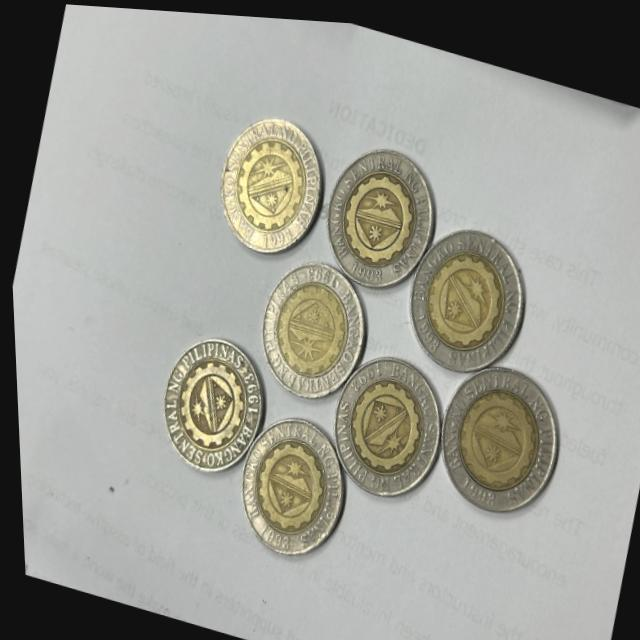10_Old_Back: (218, 399, 354, 575), (425, 352, 560, 516), (394, 214, 523, 366), (147, 328, 269, 475), (207, 106, 327, 244), (321, 348, 439, 487), (321, 140, 436, 280), (248, 256, 366, 386)
